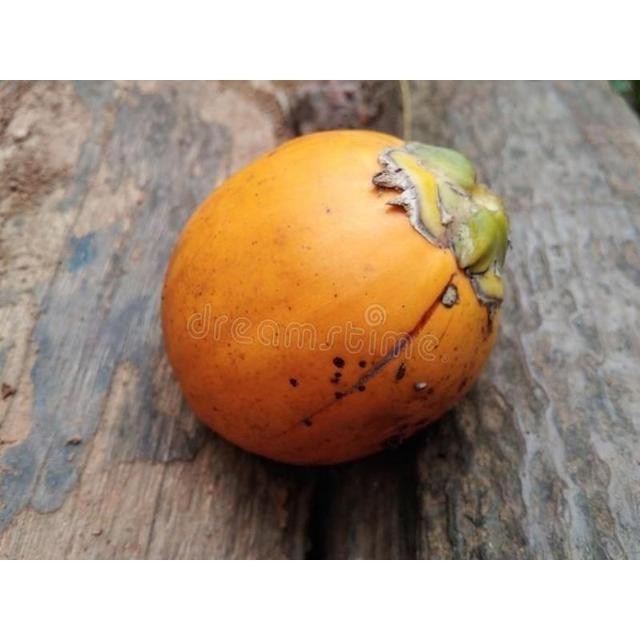good: (160, 130, 510, 469)
